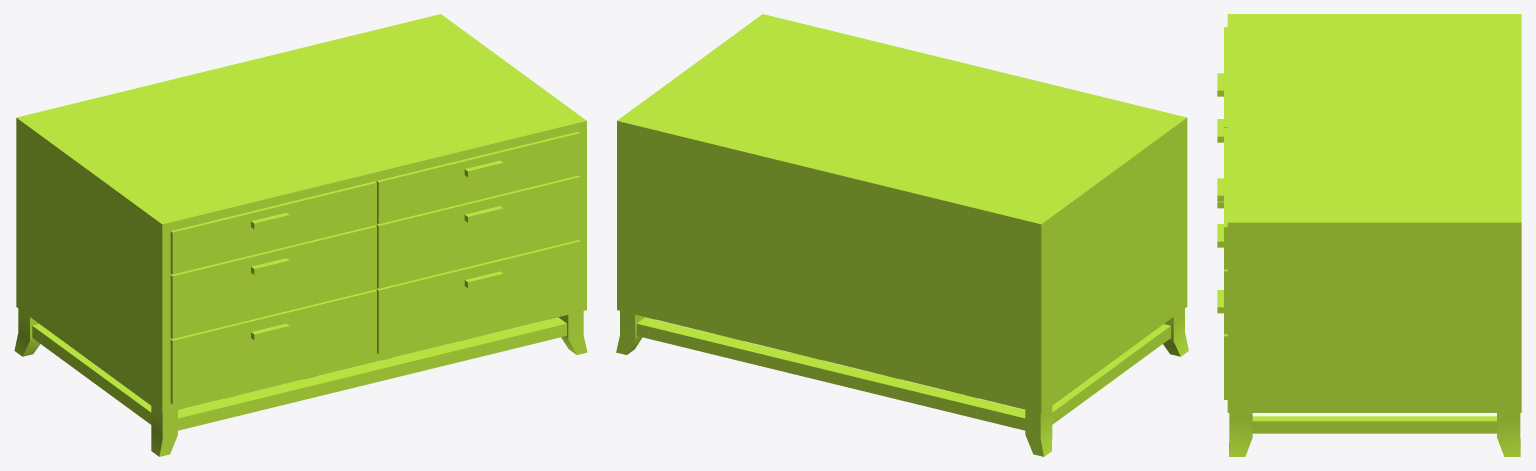
Rendered from Drawer_3.FBX.
3 renders of one model, left to right at view 1: azimuth 30°, elevation 25°; view 2: azimuth 150°, elevation 25°; view 3: azimuth 270°, elevation 25°, orthographic.
Parts seen in each view (by area): view 1: Drawer_3; view 2: Drawer_3; view 3: Drawer_3.
Boxes of the visible parts, x1=… form: Drawer_3: x1=14, y1=14, x2=587, y2=456; Drawer_3: x1=616, y1=14, x2=1188, y2=456; Drawer_3: x1=1217, y1=14, x2=1521, y2=456.
Bounding box in the file's own units: 2.43 × 1.26 × 1.48.
